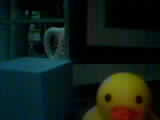duck: (86, 64, 156, 111)
